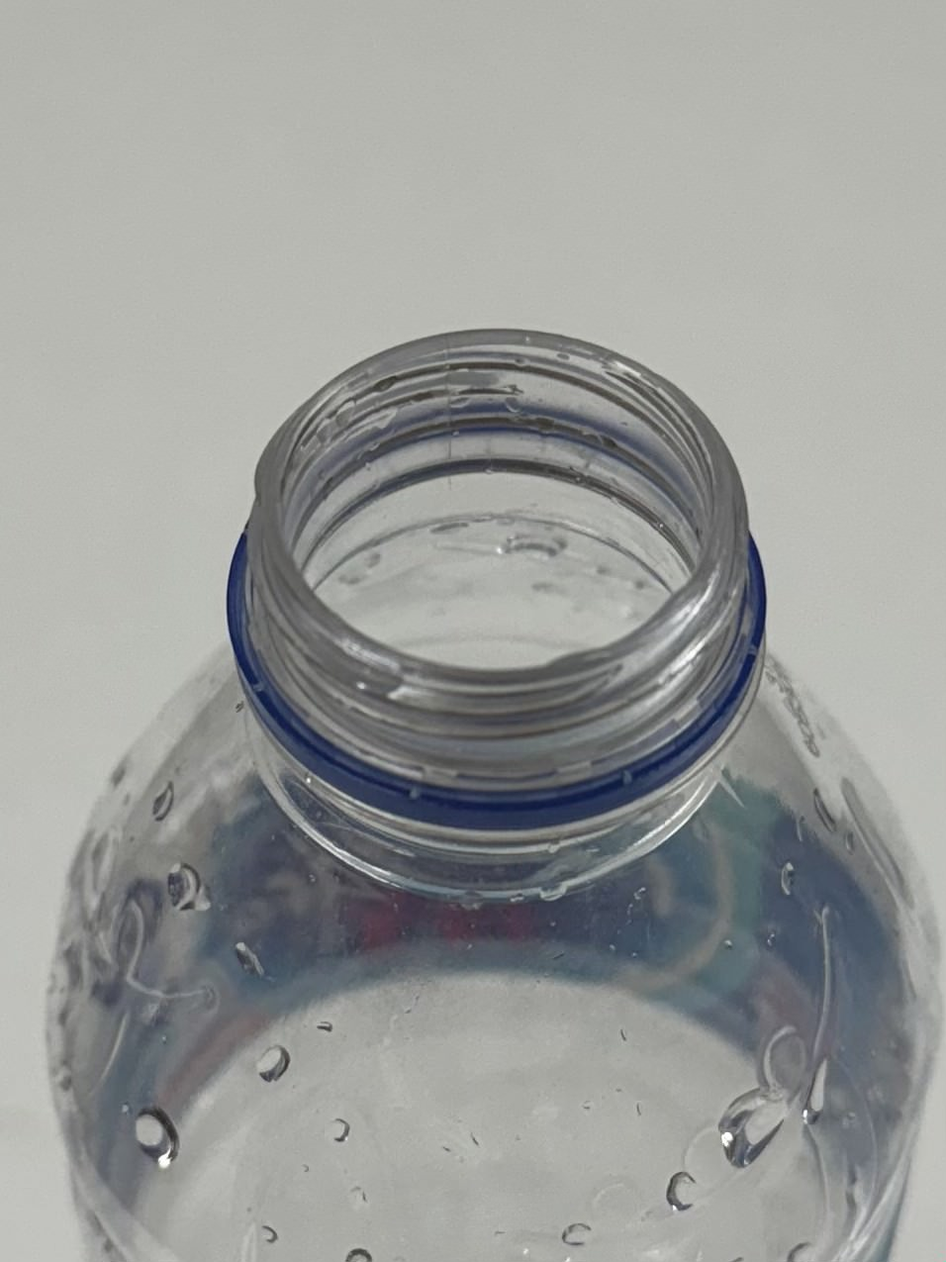no_cap: (219, 320, 778, 901)
